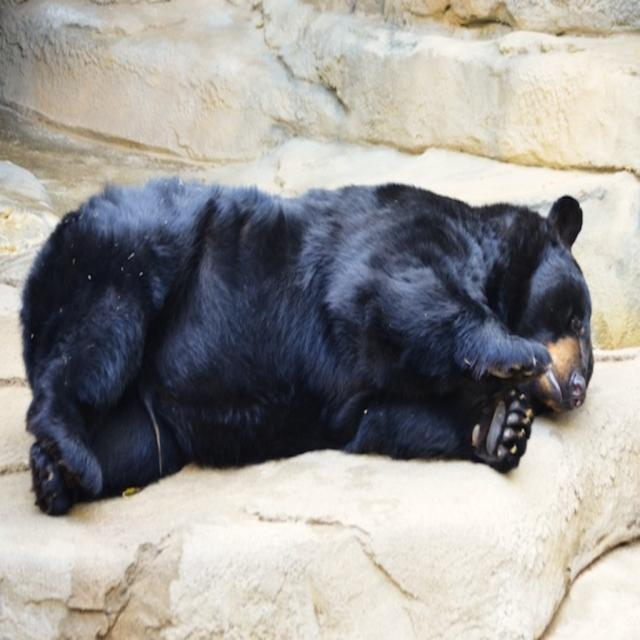Buffalo: (19, 173, 592, 515)
